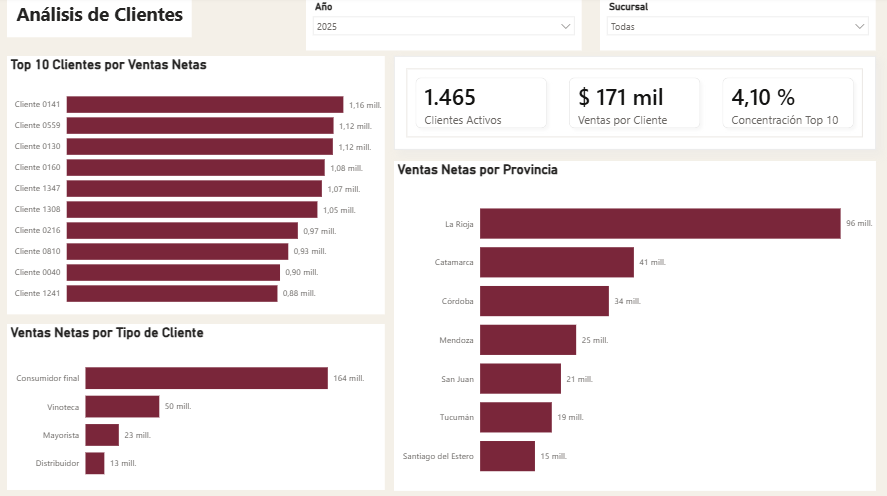

What the dashboard file says about the page in this screenshot:
{"tool":"powerbi","page":{"name":"Análisis de Clientes","canvas":[1280,720],"ordinal":3},"visuals":[{"type":"textbox","box":[10.1,0,266.4,57.6],"z":0},{"type":"slicer","fields":{"Values":["dim_calendario.Año"]},"box":[440.6,0,397,77],"z":1000},{"type":"slicer","fields":{"Values":["dim_sucursales1.nombre_sucursal"]},"box":[864,0,397,77],"z":2000},{"type":"barChart","title":"Top 10 Clientes por Ventas Netas","fields":{"Category":["dim_clientes__2.nombre_cliente"],"Y":["Medidas (2).Ventas_Netas"]},"box":[10.1,85,544.3,371.5],"z":3000},{"type":"cardVisual","fields":{"Data":["Medidas (2).Clientes_Activos","Medidas (2).Ventas_por_Cliente","Medidas (2).% Ventas_Top10_Clientes"]},"box":[567.4,85,694.1,135.4],"z":4000},{"type":"clusteredBarChart","title":"Ventas Netas por Tipo de Cliente","fields":{"Category":["dim_clientes__2.tipo_cliente"],"Y":["Medidas (2).Ventas_Netas"]},"box":[10.1,470.9,544.3,239],"z":5000},{"type":"barChart","title":"Ventas Netas por Provincia","fields":{"Category":["dim_clientes__2.provincia"],"Y":["Medidas (2).Ventas_Netas"]},"box":[567.4,236.2,694.1,475.2],"z":6000}]}

Visuals, with their boxes in screenshot pixels (x1, y1, x2, y2), scaled from the page's 1280x720 canvas onto the 887x496 screenshot:
textbox: rect(7, 0, 192, 40)
slicer - dim_calendario.Año: rect(305, 0, 580, 53)
slicer - dim_sucursales1.nombre_sucursal: rect(599, 0, 874, 53)
"Top 10 Clientes por Ventas Netas" barChart: rect(7, 59, 384, 314)
cardVisual - Medidas (2).Clientes_Activos x Medidas (2).Ventas_por_Cliente: rect(393, 59, 874, 152)
"Ventas Netas por Tipo de Cliente" clusteredBarChart: rect(7, 324, 384, 489)
"Ventas Netas por Provincia" barChart: rect(393, 163, 874, 490)
